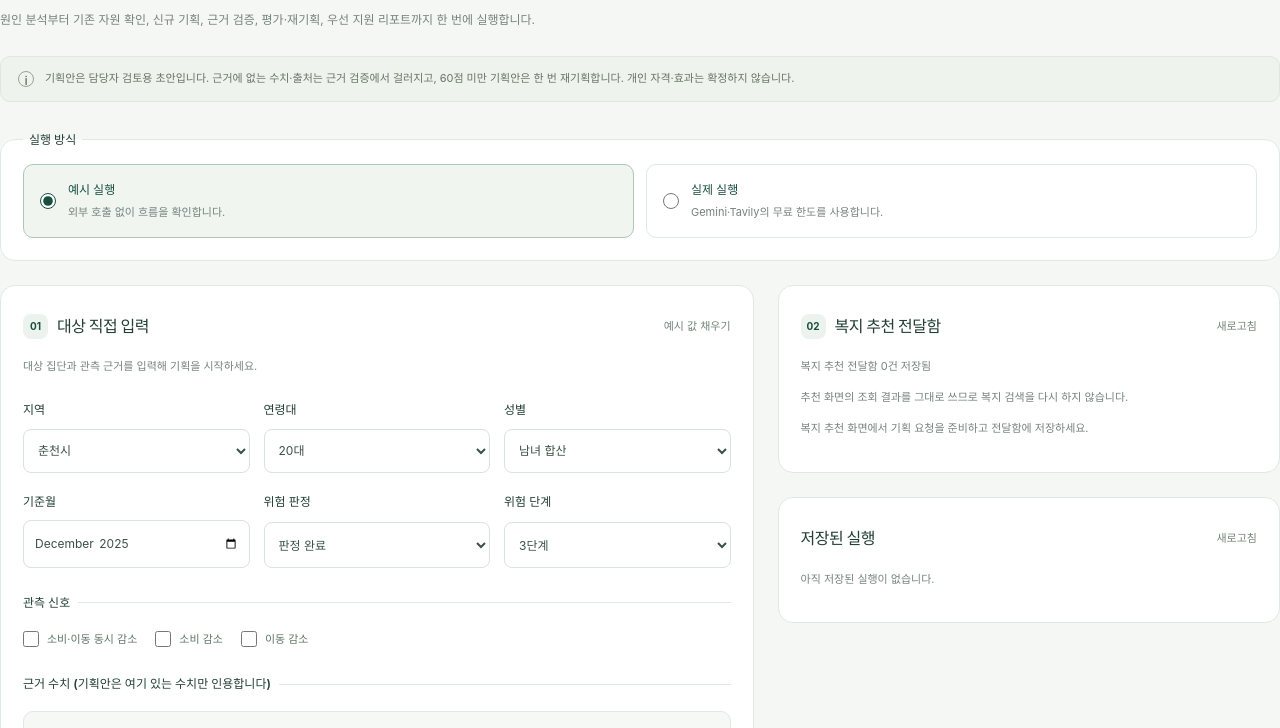
Test: 직접 입력 → 타임라인 → 결과 탭이 끝까지 동작한다
This screenshot has width=1280, height=728.
Expected: the text "복지 추천 전달함 0건 저장됨" is shown, x1=801 y1=359 x2=931 y2=373
Click the button "예시 값 채우기". click: (697, 326)
box: x1=664 y1=308 x2=731 y2=345
(page scrolled)
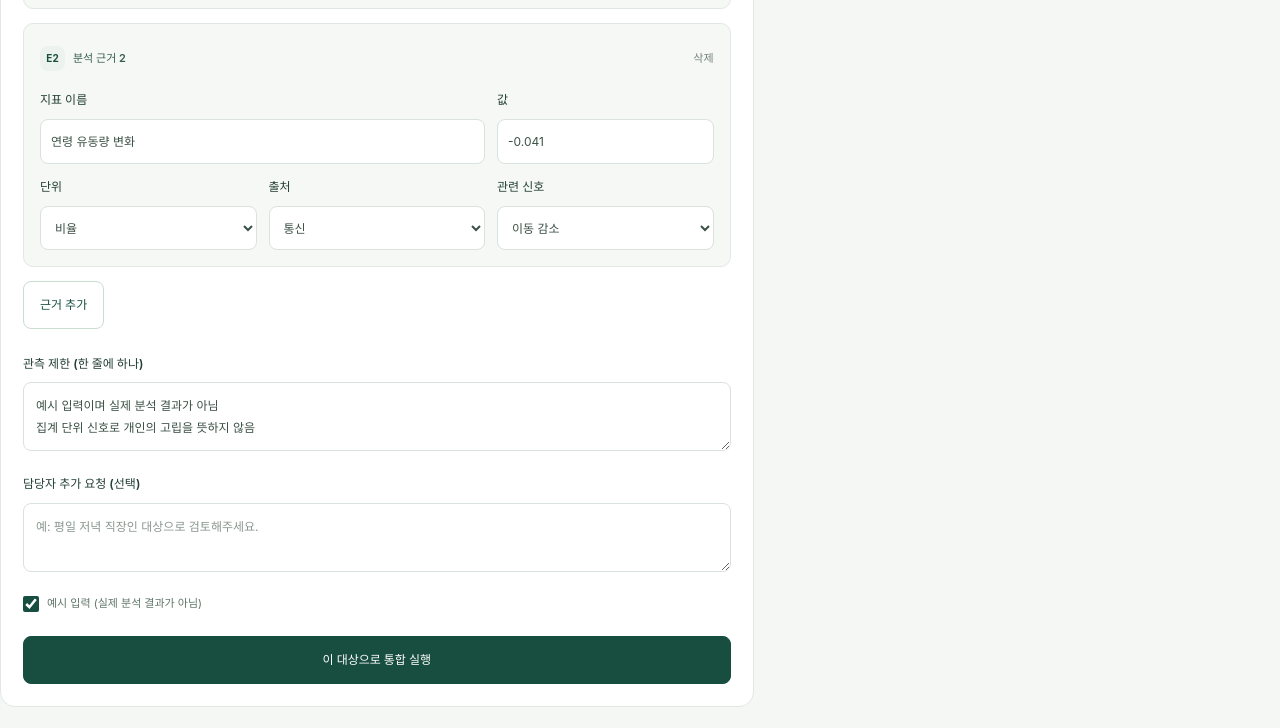
Click the button "이 대상으로 통합 실행". click: (377, 660)
box: x1=23 y1=636 x2=731 y2=684
(page scrolled)
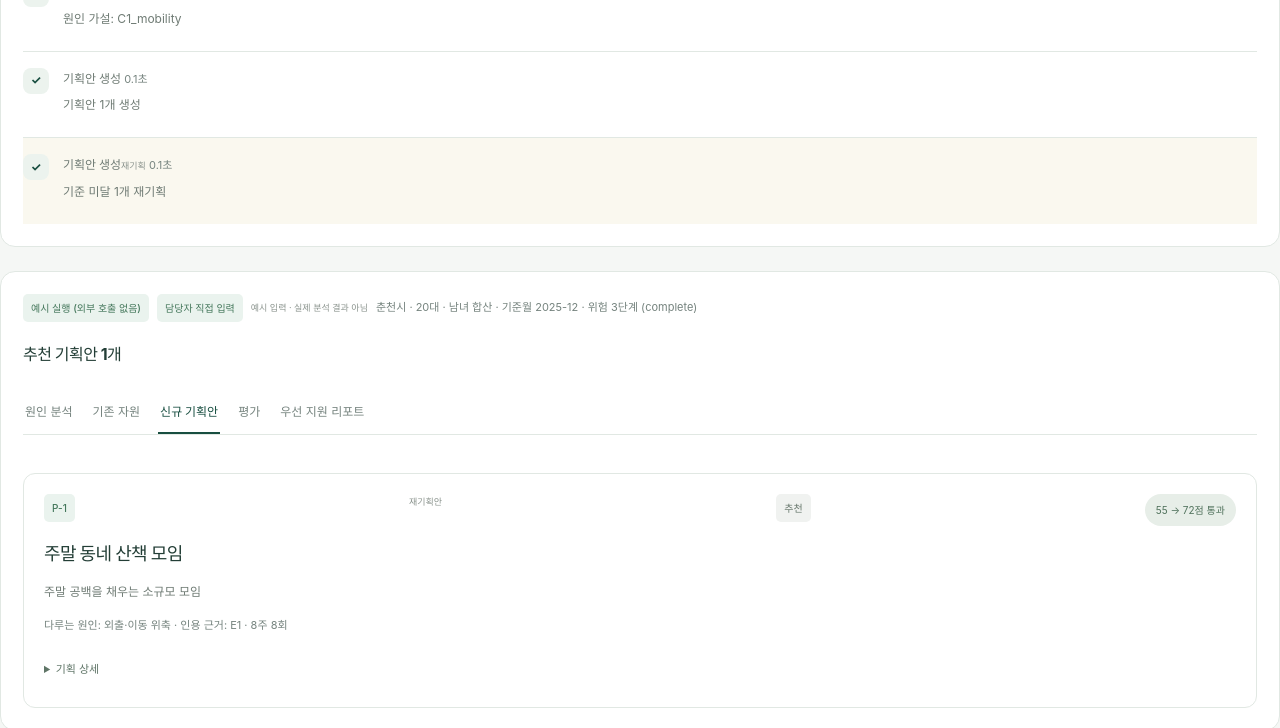
Expected: the heading "추천 기획안 1개" is shown, x1=23 y1=344 x2=121 y2=364
Expected: the text "예시 입력 · 실제 분석 결과 아님" is shown, x1=251 y1=300 x2=368 y2=316
Expected: the text "재기획" is shown once, x1=121 y1=160 x2=146 y2=171
Click the tab "평가". click: (249, 412)
box: x1=236 y1=391 x2=262 y2=434
(page scrolled)
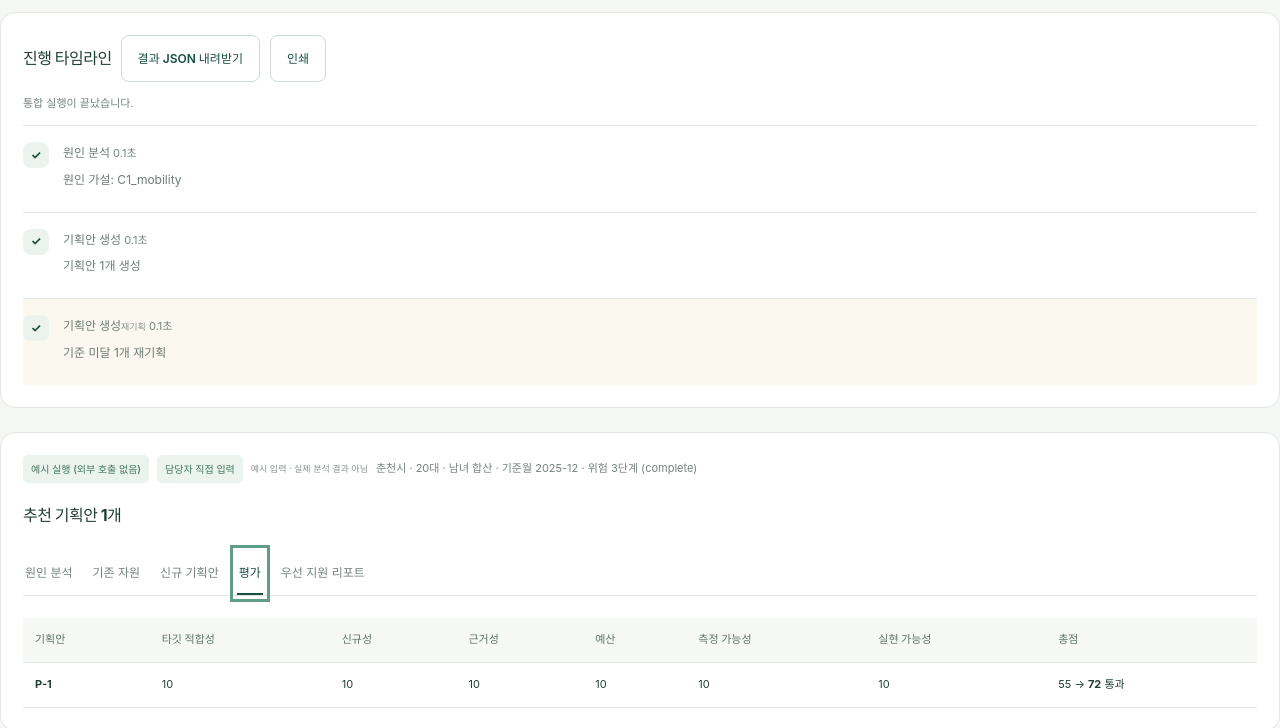
Expected: the text "72" is shown, x1=1088 y1=677 x2=1101 y2=691
Click the tab "원인 분석". click: (49, 573)
box: x1=23 y1=552 x2=74 y2=595
(page scrolled)
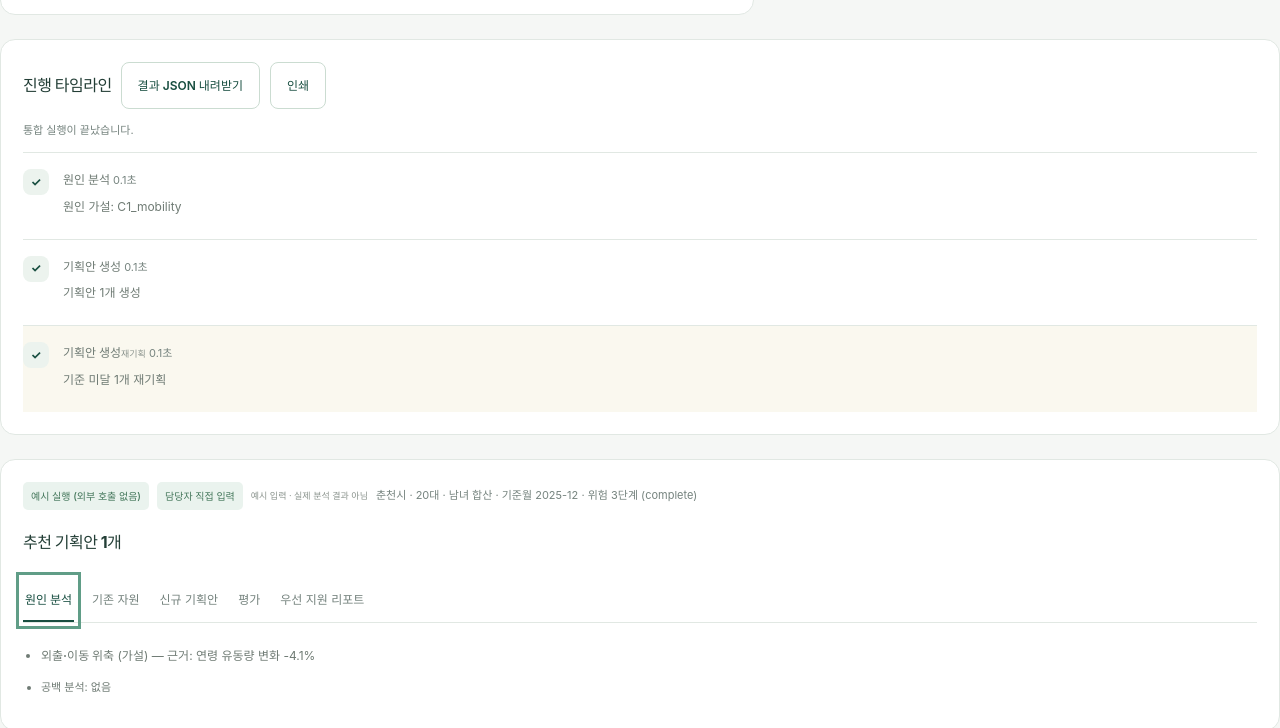
Expected: the list item "외출·이동 위축 (가설) — 근거: 연령 유동량 변화 -4.1%" is shown, x1=41 y1=648 x2=315 y2=663
